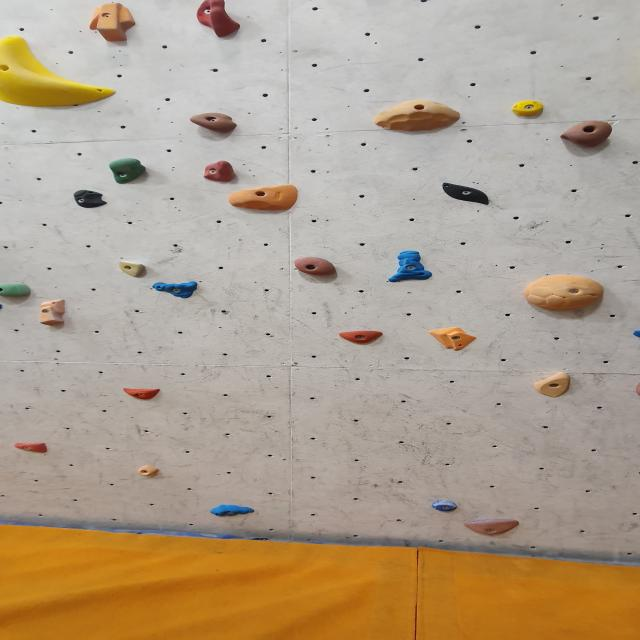Crimp: (462, 518, 520, 536), (150, 281, 200, 298), (334, 331, 386, 347), (509, 100, 548, 119), (113, 262, 149, 280), (207, 504, 256, 516), (10, 442, 51, 456), (121, 386, 166, 398), (430, 501, 458, 513), (135, 465, 162, 477), (634, 381, 640, 398), (630, 328, 640, 337)
Jug: (192, 0, 242, 39), (560, 122, 616, 150), (187, 111, 241, 134), (108, 158, 152, 186), (291, 258, 341, 278), (201, 161, 239, 185), (0, 282, 33, 298)
Pinch: (86, 2, 138, 44), (386, 248, 435, 284), (532, 374, 575, 398), (38, 300, 72, 327)
Sloper: (0, 35, 116, 109), (369, 99, 466, 134), (521, 276, 607, 314), (225, 184, 301, 212), (427, 328, 482, 352), (438, 182, 493, 202), (68, 189, 113, 209)
